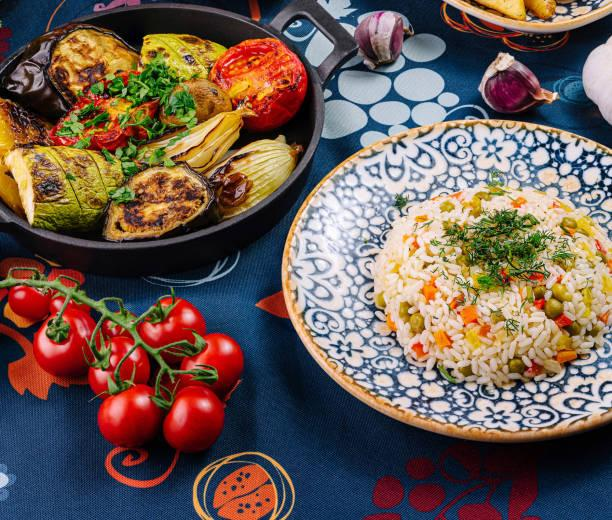Braised Crucian Carp: (281, 118, 604, 435), (1, 2, 351, 277)
